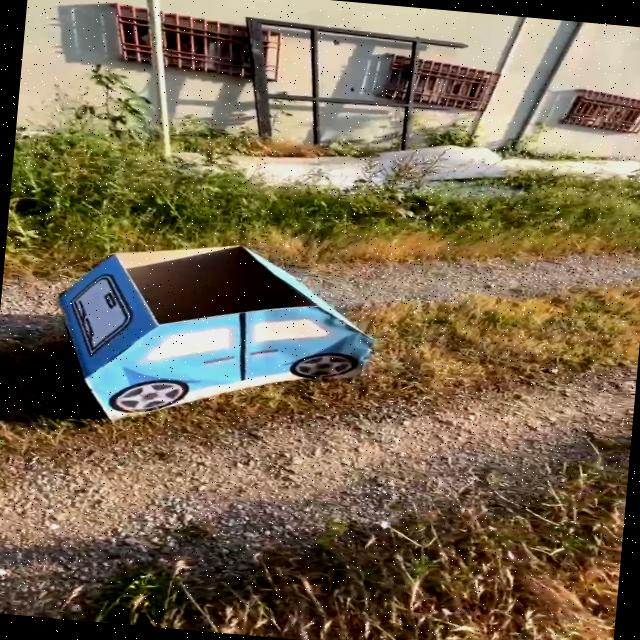blue_car: (0, 198, 434, 459)
